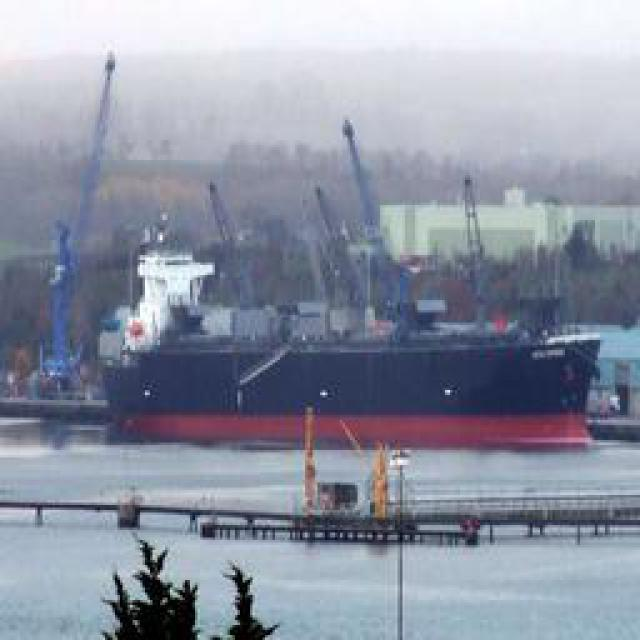Ship: (91, 148, 608, 457)
